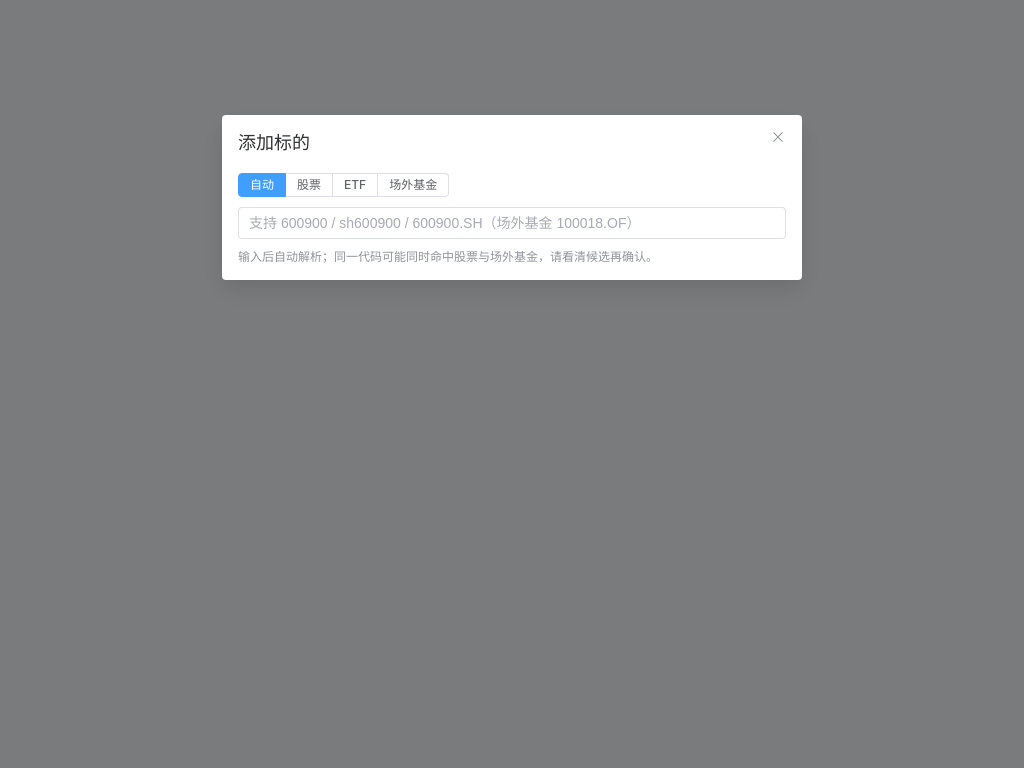
it: AddAssetDialog 添加 › 已 registered 的候选不重复请求, 提示「已在组合中」
In the field with placeholder "支持 600900 / sh600900 / 600900.SH（场外基金 100018.OF）": point(512, 223) [249,208,775,238], type "600900"
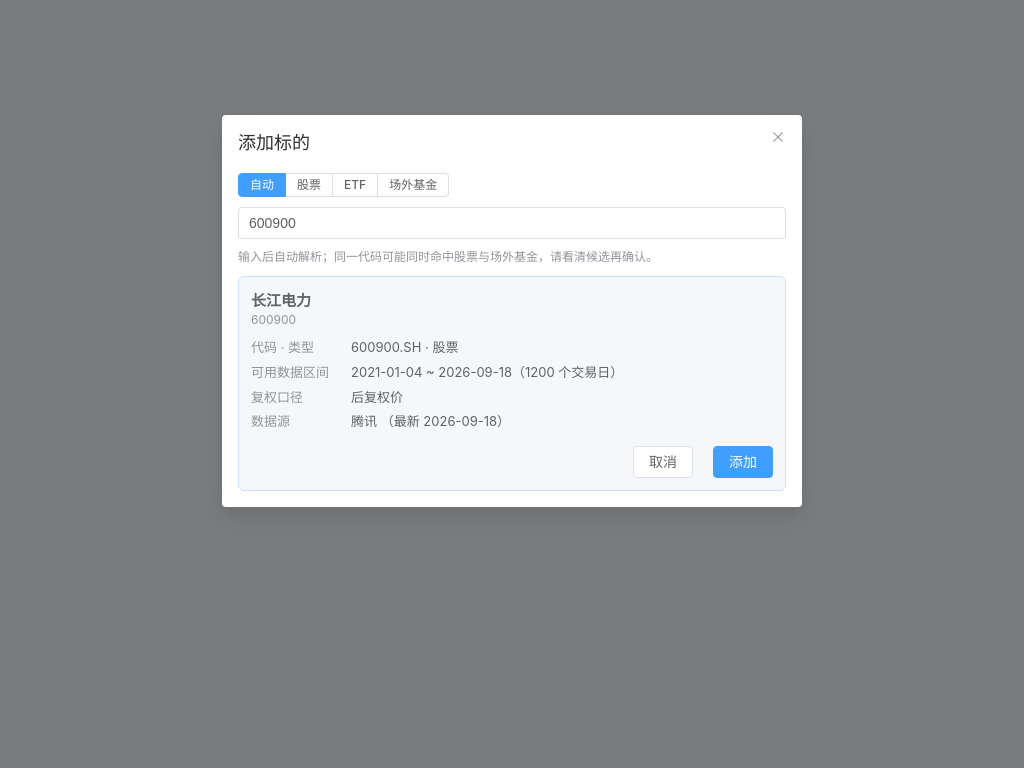
Click the button "添加": point(743, 462) [713,446,773,478]
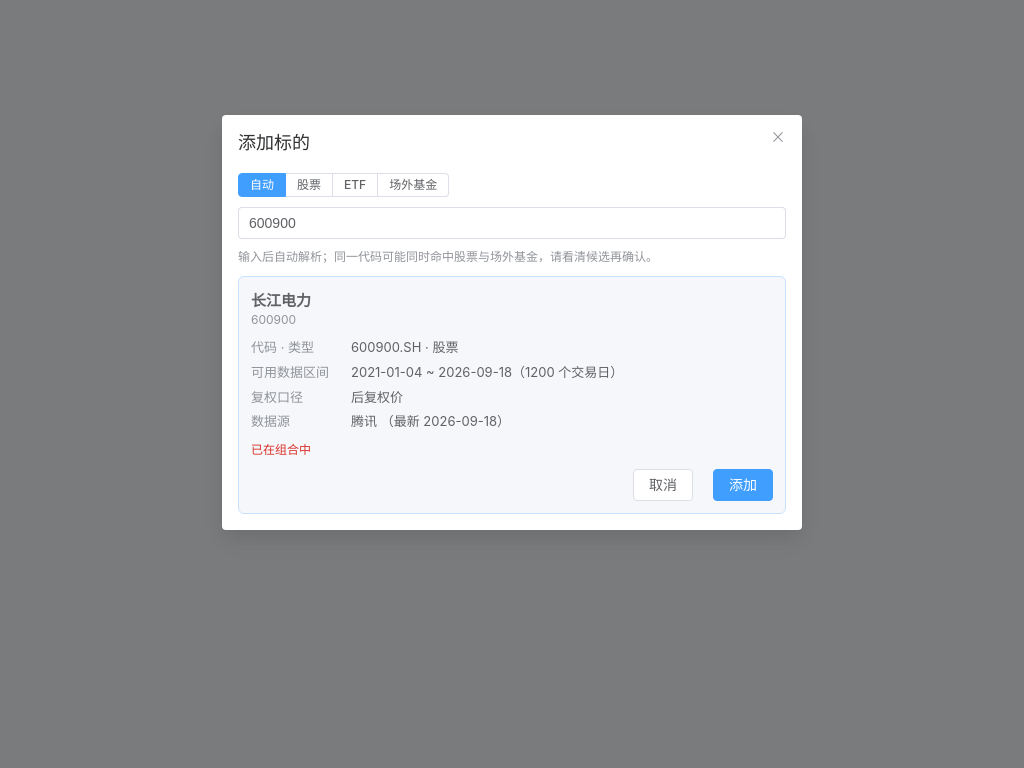
Result: the text "已在组合中" is shown at [251,442,311,457]
